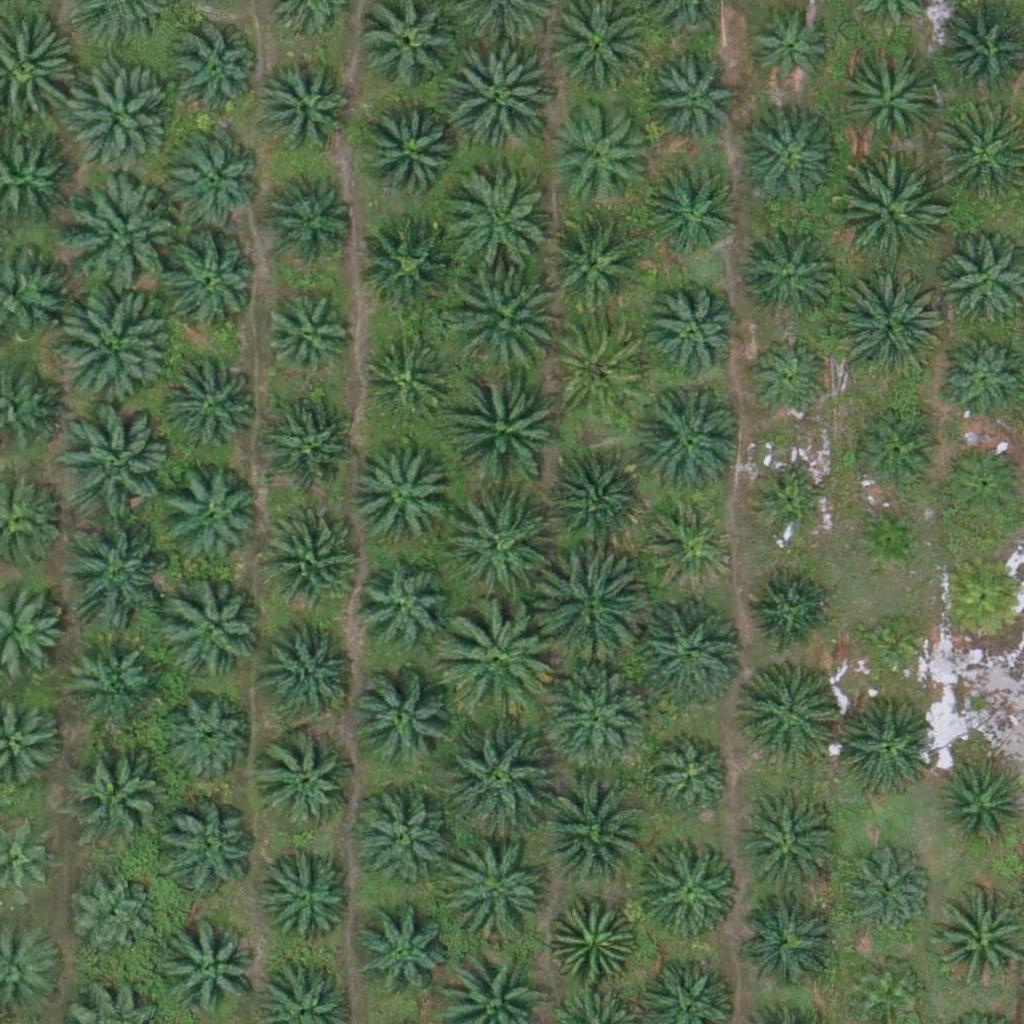Kelapa_Sawit: (438, 490, 551, 604), (447, 262, 560, 376), (443, 837, 556, 950), (442, 721, 555, 834), (831, 269, 944, 382), (832, 157, 945, 270), (441, 170, 554, 283), (447, 41, 560, 154), (55, 290, 168, 403), (68, 174, 181, 287), (59, 60, 172, 173), (543, 658, 655, 772), (449, 365, 561, 479), (56, 517, 168, 630), (440, 604, 552, 717), (530, 552, 642, 665), (535, 773, 647, 886), (633, 593, 745, 706), (632, 383, 744, 496), (62, 406, 174, 519), (62, 629, 162, 730), (65, 740, 165, 841), (159, 463, 259, 564), (165, 917, 265, 1018), (257, 731, 357, 832), (258, 507, 358, 608), (355, 558, 455, 659), (353, 668, 453, 769), (348, 904, 448, 1005), (639, 835, 739, 936), (741, 799, 841, 900), (739, 890, 839, 991), (832, 697, 932, 798), (839, 50, 939, 151), (737, 110, 837, 211), (739, 223, 839, 324), (641, 282, 741, 383), (547, 100, 647, 201), (544, 210, 644, 311), (260, 395, 360, 496), (159, 228, 259, 329), (157, 354, 257, 455), (162, 23, 262, 123), (164, 582, 264, 682), (155, 799, 255, 899), (258, 847, 358, 947), (265, 618, 365, 718), (349, 449, 449, 549), (352, 786, 452, 886), (545, 453, 645, 553), (738, 661, 838, 761), (550, 319, 650, 419), (361, 101, 461, 201), (361, 215, 461, 315), (264, 166, 364, 266), (256, 57, 356, 157), (165, 130, 265, 230), (69, 872, 157, 960), (744, 336, 832, 424), (647, 168, 735, 256), (646, 59, 734, 147), (360, 334, 448, 422), (262, 296, 350, 384), (743, 6, 830, 94), (647, 501, 734, 589), (164, 693, 251, 781), (550, 893, 637, 981), (651, 735, 738, 823), (746, 565, 833, 653), (844, 842, 931, 930), (850, 408, 937, 496), (850, 500, 925, 576), (854, 608, 929, 684), (756, 471, 831, 546)
